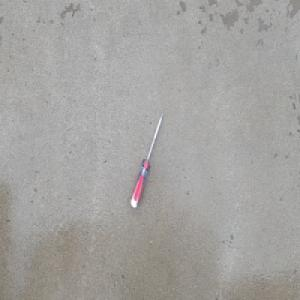Screwdriver: (130, 109, 165, 209)
